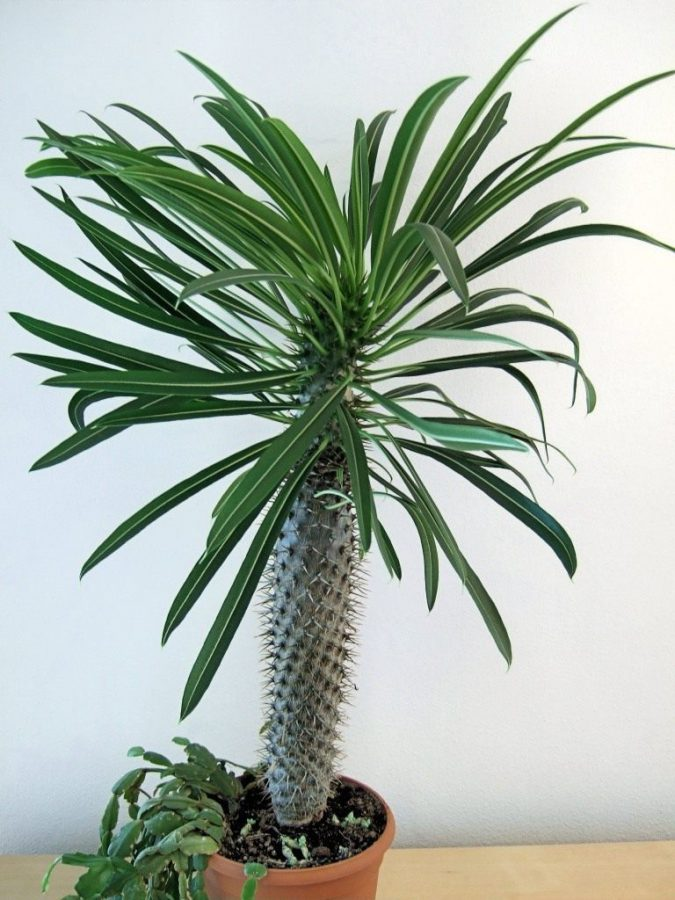Pachypodium lamerei Drake: (102, 103, 570, 837)
